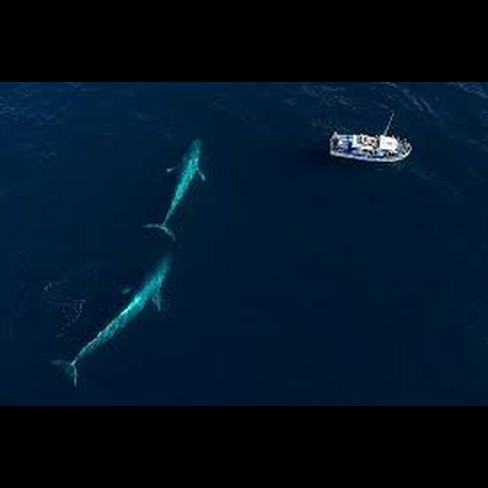bluewhale: (50, 252, 178, 390), (140, 134, 208, 246)
boat: (328, 127, 415, 167)
